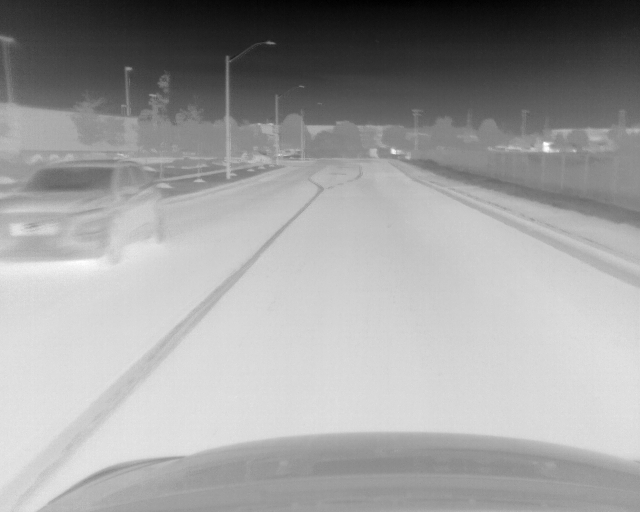car: (1, 160, 170, 267)
